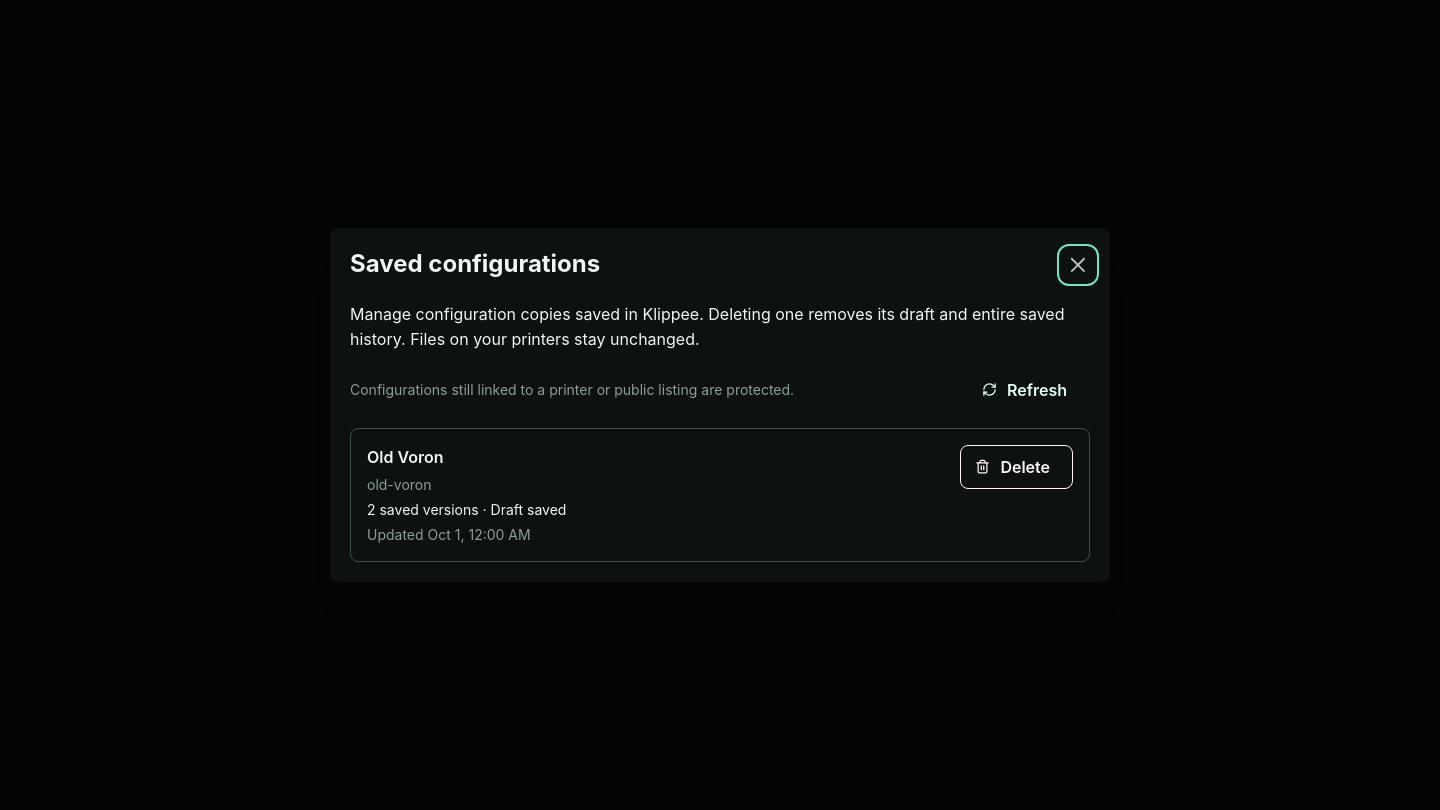
Scenario: saved configurations › reconciles an uncertain network deletion without claiming success
Click the button with aria-label "Delete Old Voron": (1016, 467) [960,445,1073,489]
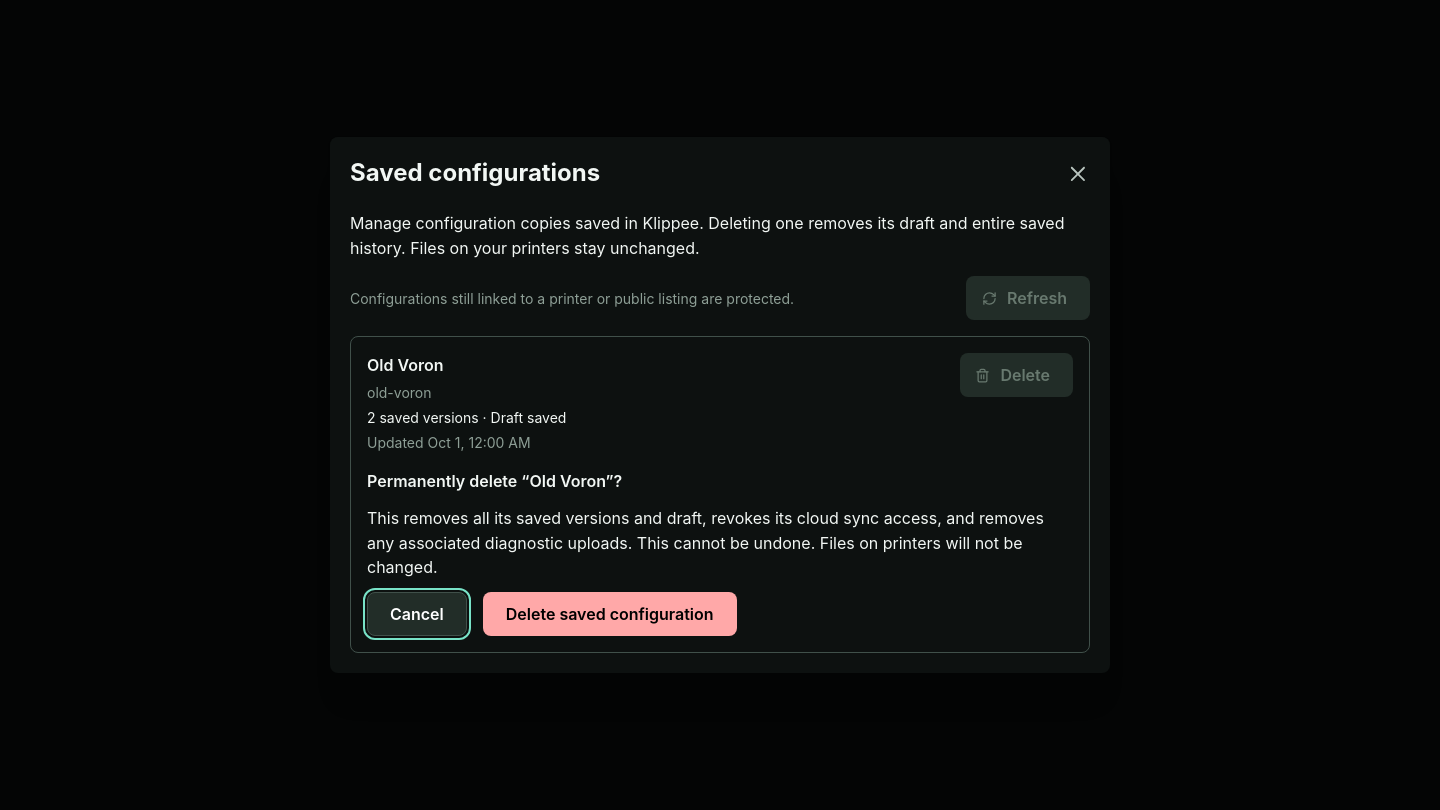
Click the button "Delete saved configuration": (610, 614) [483,592,736,636]
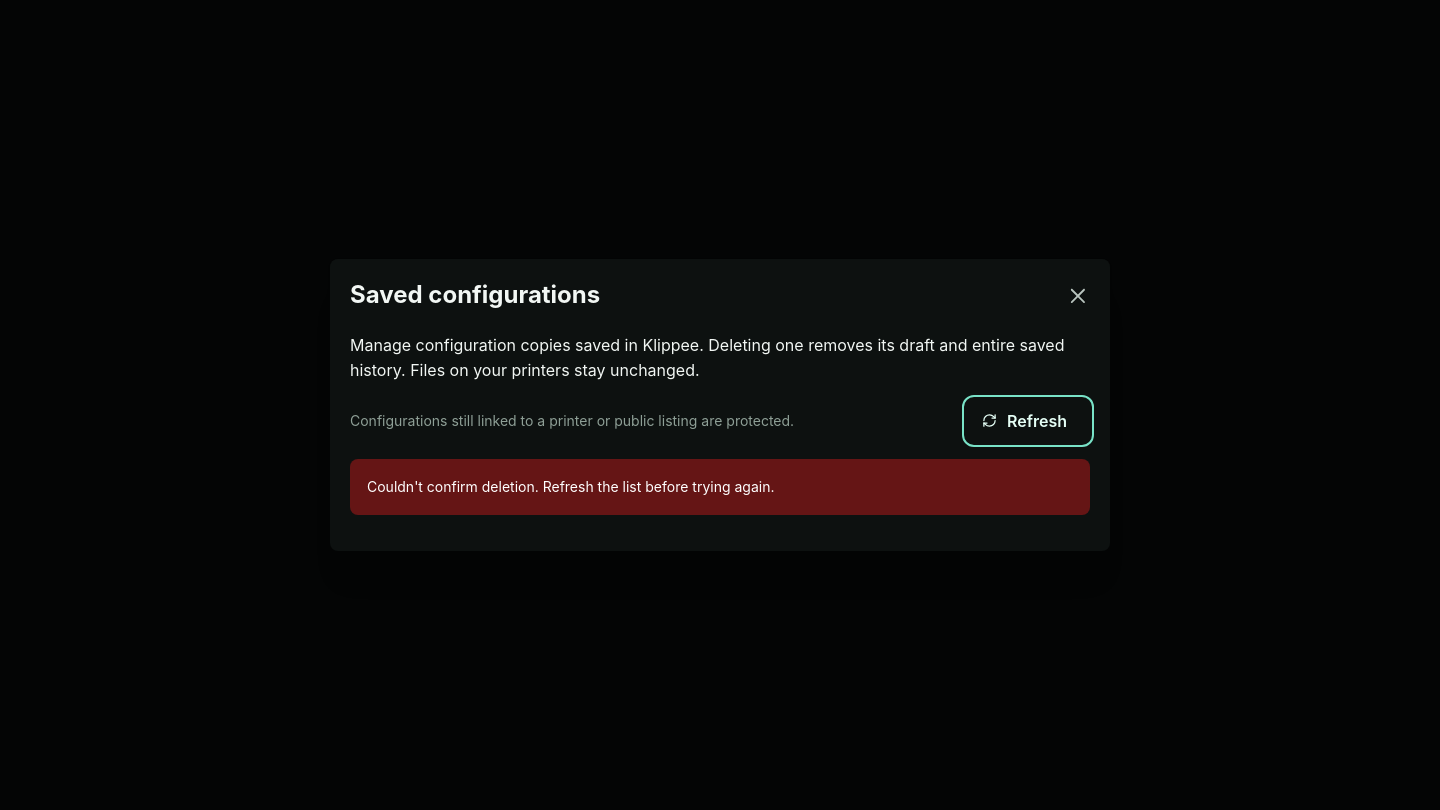
Check: the message shows "Couldn't confirm deletion", box [367,478,774,495]
